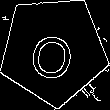O_N: (27, 20, 81, 81)
